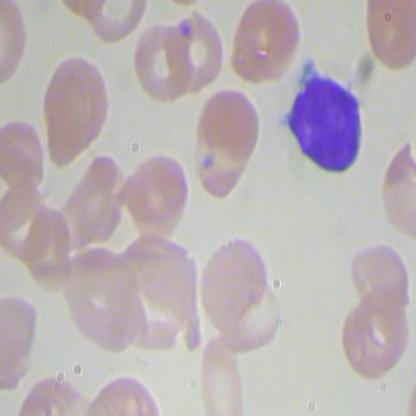RBC: (32, 54, 111, 169), (192, 85, 262, 204), (197, 229, 276, 331), (112, 148, 190, 247), (334, 297, 412, 380), (230, 1, 300, 87), (166, 9, 228, 92), (351, 233, 415, 313), (134, 18, 194, 102), (1, 292, 45, 394), (373, 137, 415, 242), (197, 333, 250, 415), (365, 1, 416, 74), (0, 115, 46, 194)
WBC: (275, 66, 372, 184)
